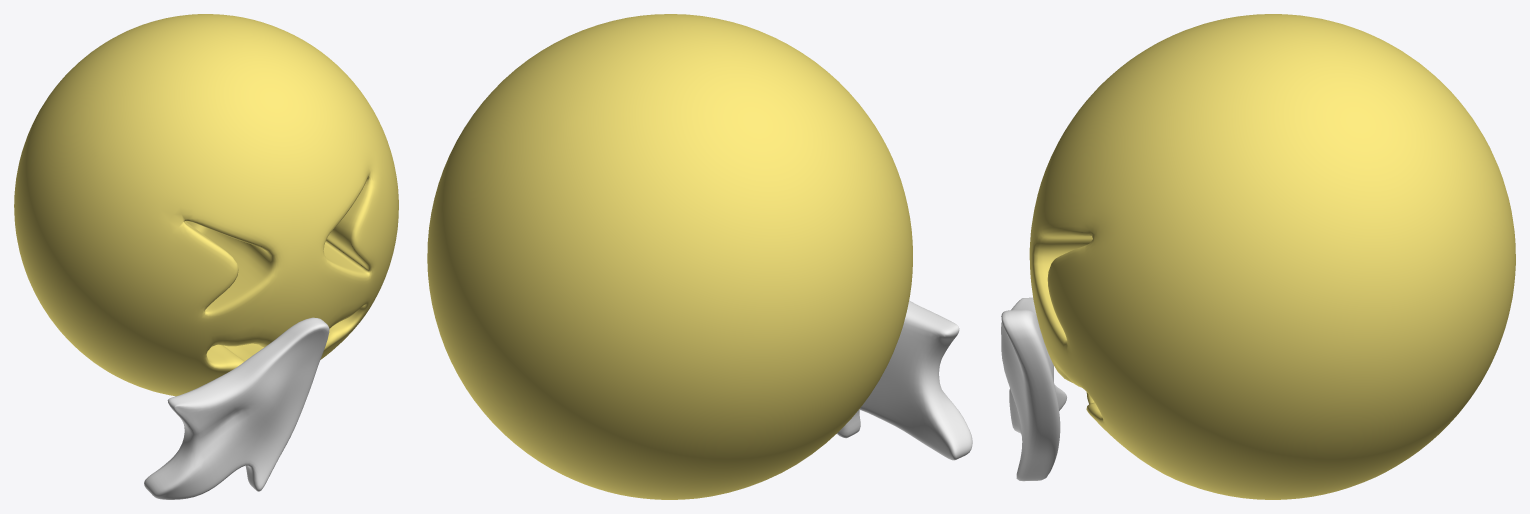
Rendered from 53_sneeze.glb.
3 views of the same model, side by side, from view 1: azimuth 30°, elevation 25°; view 2: azimuth 150°, elevation 25°; view 3: azimuth 270°, elevation 25° (orthographic). The views are drawn at different scales.
Visible parts, largest first — view 1: Group50210, Group52937; view 2: Group50210, Group52937; view 3: Group50210, Group52937.
Part boxes in pixels (left/top/right/bottom): Group50210: left=14, top=14, right=398, bottom=396; Group52937: left=144, top=317, right=329, bottom=499; Group50210: left=427, top=14, right=912, bottom=499; Group52937: left=837, top=300, right=972, bottom=460; Group50210: left=1029, top=14, right=1515, bottom=499; Group52937: left=1001, top=297, right=1066, bottom=481.
Bounding box in the file's own units: 0.5307 × 0.5705 × 0.5622.
